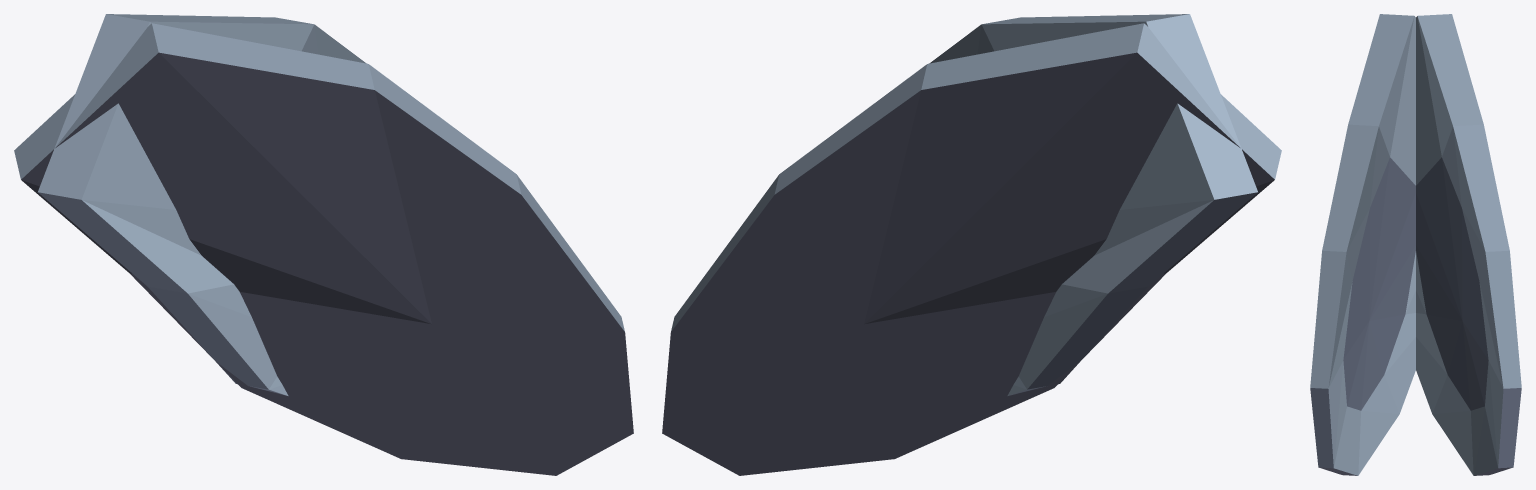
Rendered from fb_long.glb.
3 renders of one model, left to right at view 1: azimuth 30°, elevation 25°; view 2: azimuth 150°, elevation 25°; view 3: azimuth 270°, elevation 25°, orthographic. The views are drawn at different scales.
Parts seen in each view (by area): view 1: Ear_R, Ear_L; view 2: Ear_L, Ear_R; view 3: Ear_L, Ear_R.
Boxes of the visible parts, box(x1,y1,x2,y2) form: Ear_R: box(14, 23, 633, 475); Ear_L: box(38, 14, 366, 395); Ear_L: box(662, 23, 1281, 475); Ear_R: box(929, 14, 1257, 395); Ear_L: box(1416, 14, 1521, 475); Ear_R: box(1310, 14, 1415, 475).
Size of the model in its own units: 0.1016 by 0.0896 by 0.0502.
Materials: 1 (1 with a texture image).
